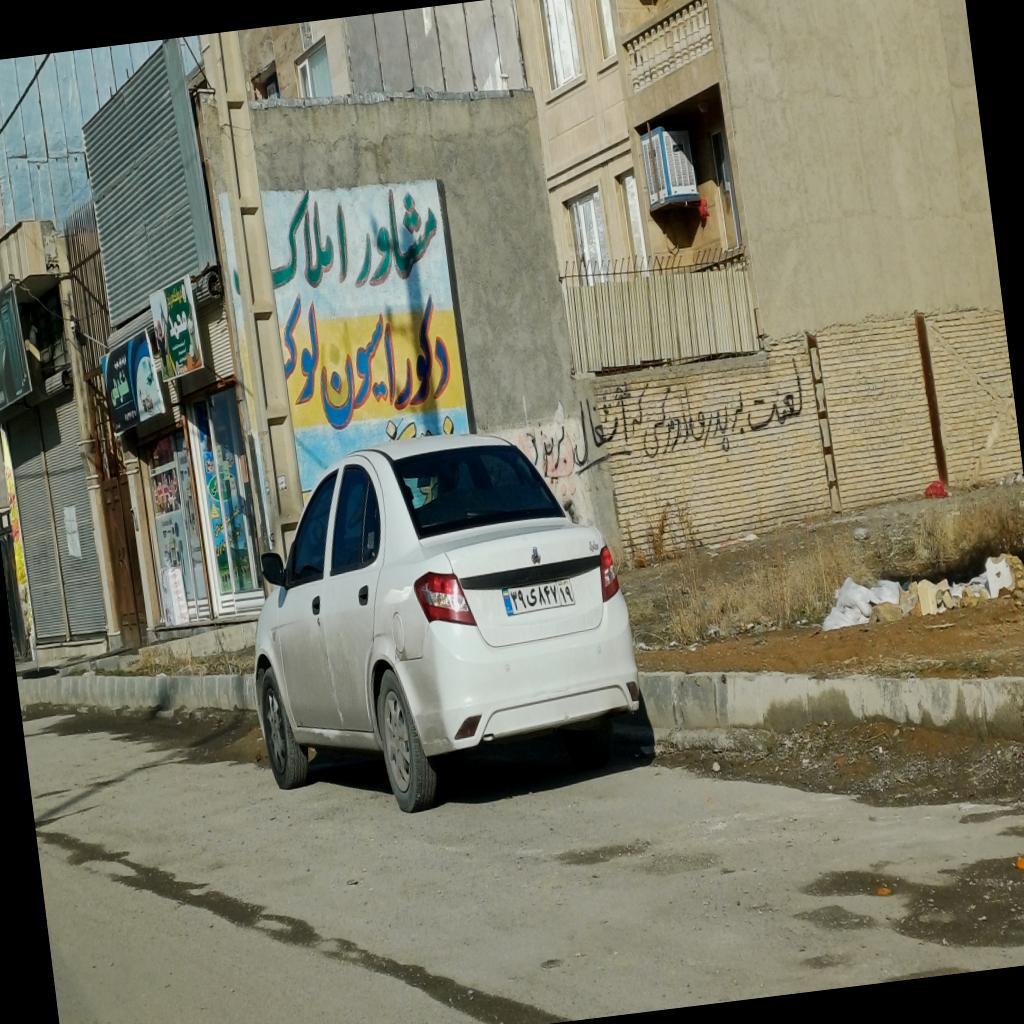Plates: (500, 578, 576, 616)
